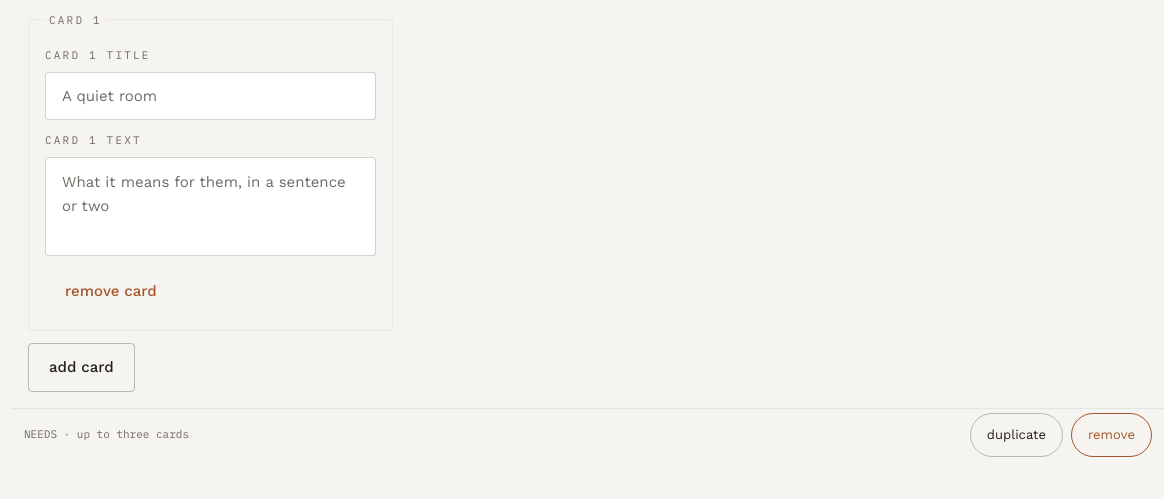
Test: NeedsEditor › lets the core refuse a fourth card and an empty list, and shows why
This screenshot has width=1164, height=499.
Click the button "remove card" at point(111, 291), box [45, 268, 177, 314]
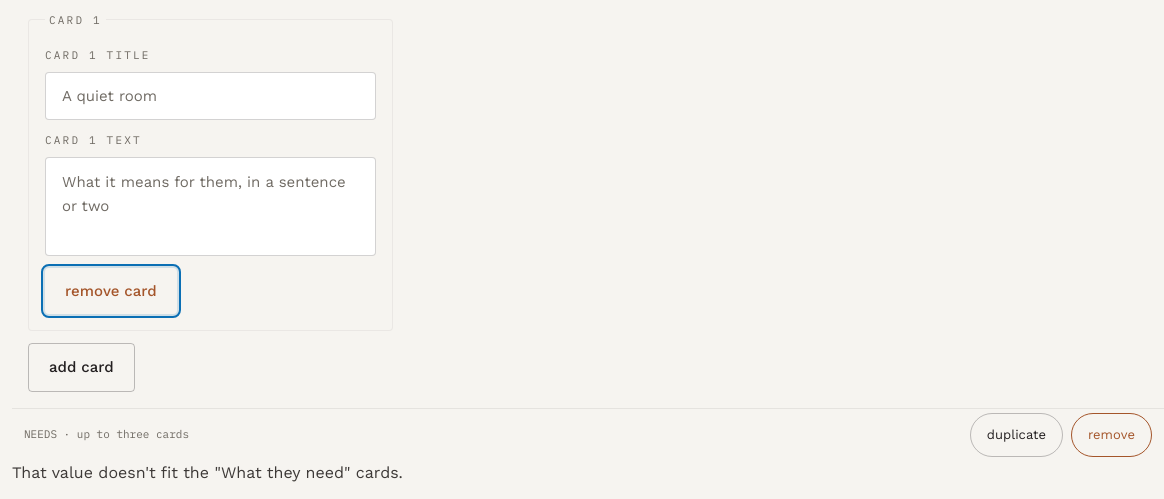
Expected: the field labelled "Card 1 title" is shown, [45, 72, 376, 120]
Now the message reads "That value doesn't fit the \"What they need\" cards.", box [12, 463, 403, 482]
Click the button "add card" at point(81, 367), box [28, 343, 135, 392]
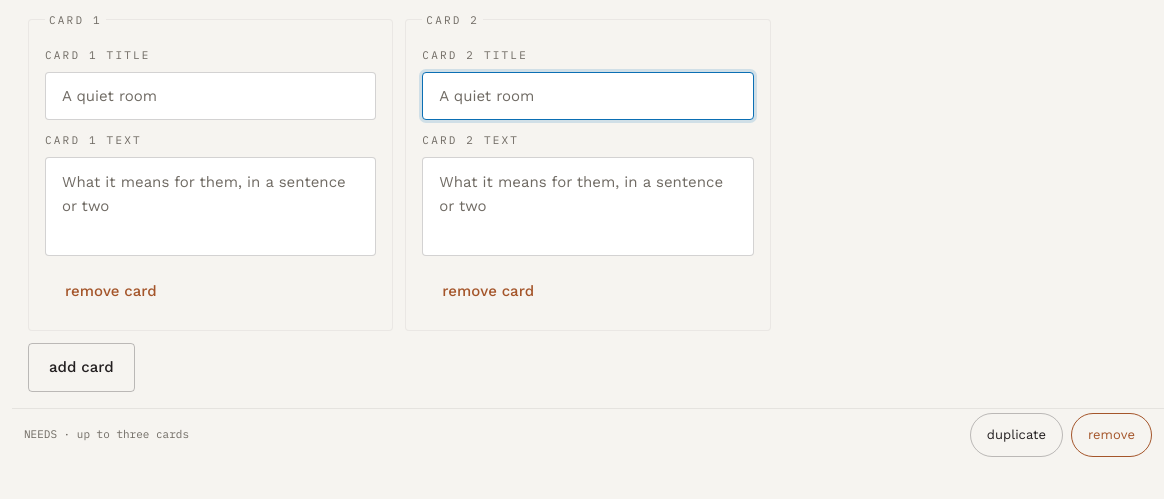
Click the button "add card" at point(81, 367), box [28, 343, 135, 392]
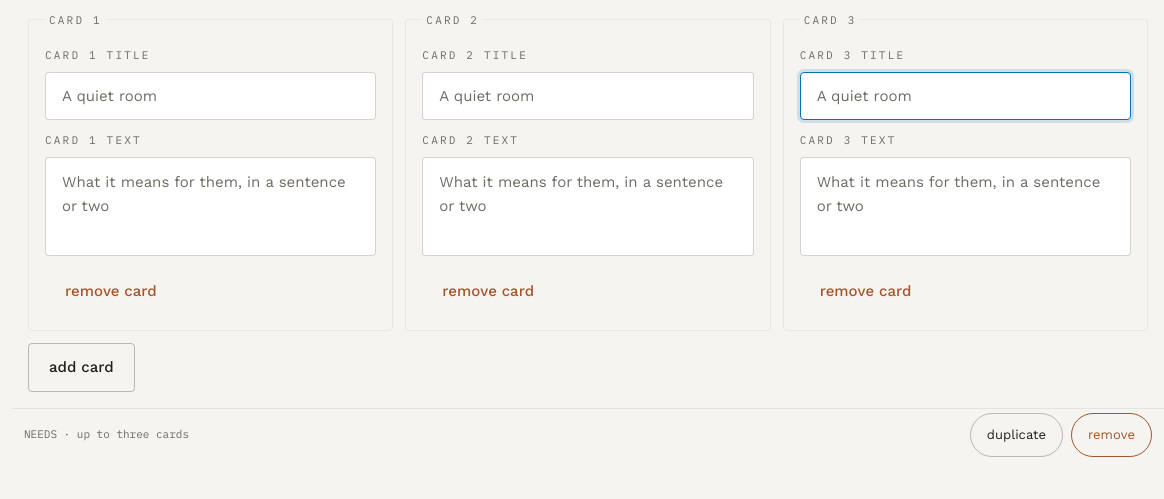
Now the field labelled "Card 3 title" is shown, box [800, 72, 1131, 120]
Click the button "add card" at point(81, 367), box [28, 343, 135, 392]
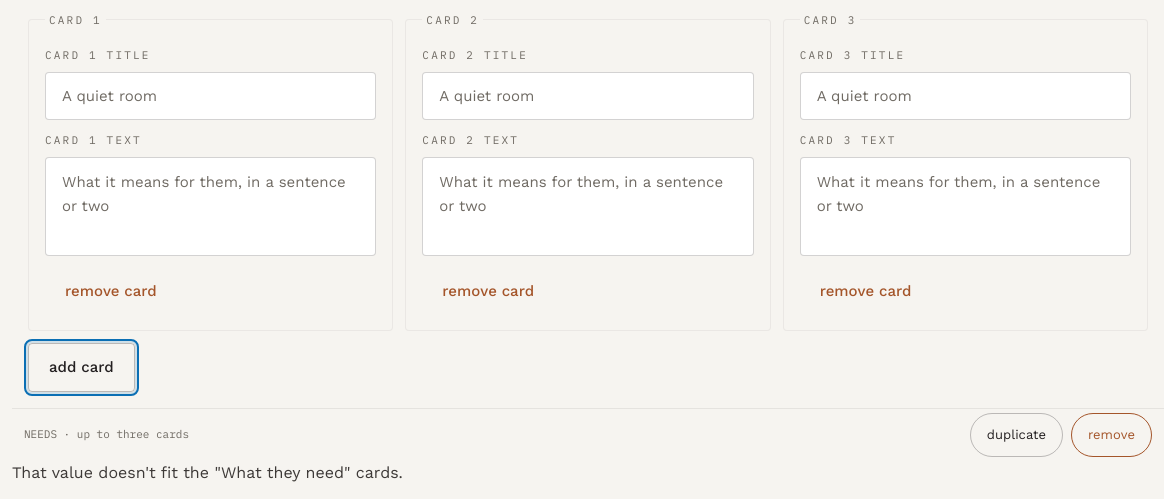
Now the message reads "That value doesn't fit the \"What they need\" cards.", box [12, 463, 403, 482]
